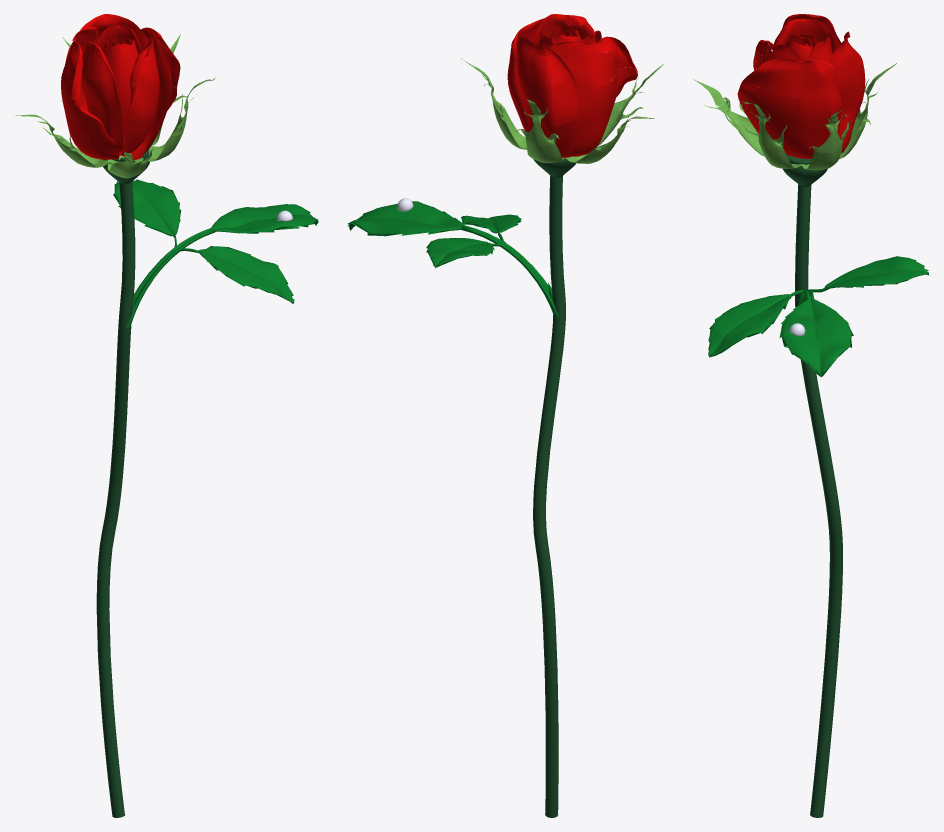
File: RoseBud.obj
3 views of the same model, side by side, from view 1: azimuth 30°, elevation 25°; view 2: azimuth 150°, elevation 25°; view 3: azimuth 270°, elevation 25° (orthographic).
Visible parts, largest first — view 1: Blossom, Stem, Leaf, Calyx; view 2: Blossom, Stem, Leaf, Calyx; view 3: Blossom, Stem, Leaf, Calyx.
Boxes of the visible parts, x1,y1,x2,y2 form: Blossom: (61,14,180,159); Stem: (96,149,149,817); Leaf: (113,179,318,328); Calyx: (16,34,215,178); Blossom: (507,14,637,157); Stem: (533,158,575,817); Leaf: (347,201,558,318); Calyx: (461,58,663,163); Blossom: (737,14,865,158); Stem: (783,154,842,817); Leaf: (708,256,929,377); Calyx: (693,63,896,170).
Bounding box in the file's own units: 0.0849 × 0.2093 × 0.0575.
